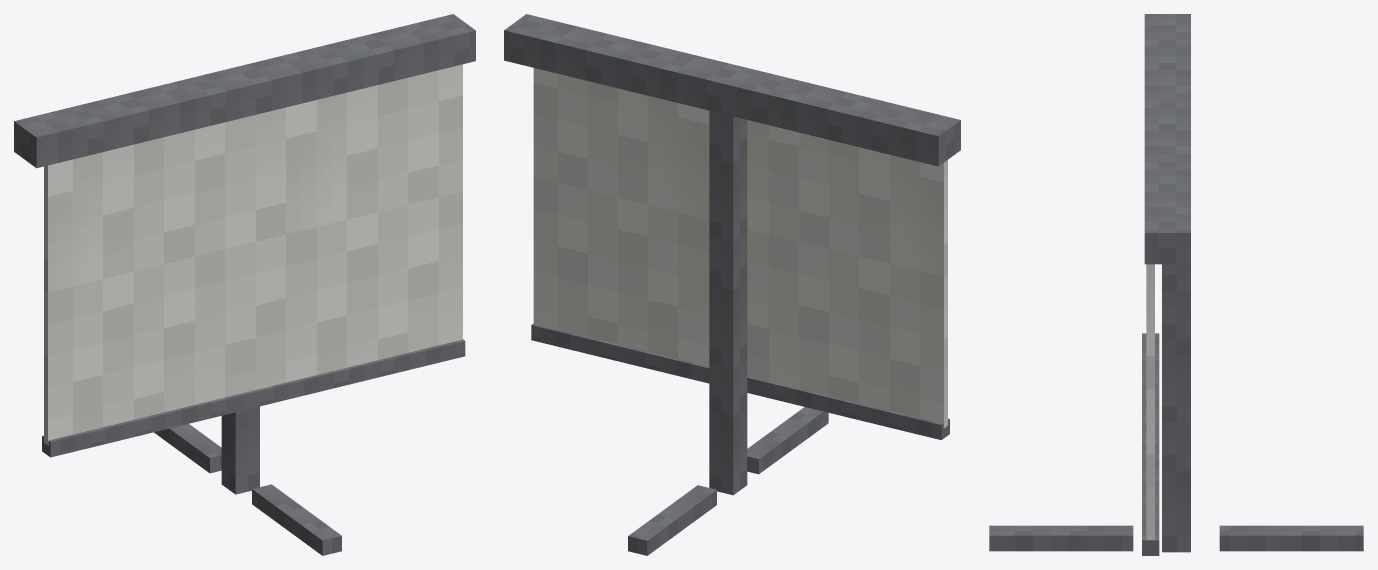
The model's file is pixel-modern-office-projector-screen-5098efd5.glb.
The picture shows the model from 3 angles, left to right: view 1: azimuth 30°, elevation 25°; view 2: azimuth 150°, elevation 25°; view 3: azimuth 270°, elevation 25°; orthographic projection. The views are drawn at different scales.
Parts seen in each view (by area): view 1: projector-screen; view 2: projector-screen; view 3: projector-screen.
Boxes of the visible parts, box(x1,y1,x2,y2) form: projector-screen: box(14, 14, 475, 555); projector-screen: box(504, 14, 960, 555); projector-screen: box(989, 14, 1363, 555).
Size of the model in its own units: 1.8 by 1.62 by 1.3.
Materials: 2 (2 with a texture image).
